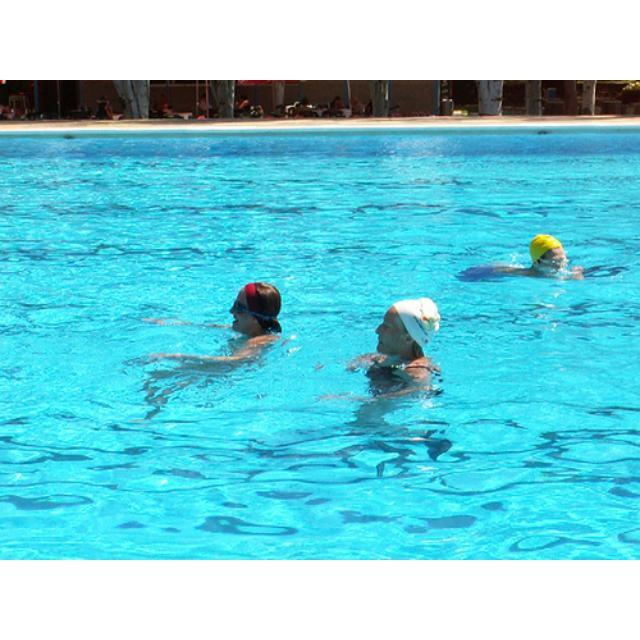human: (363, 298, 441, 404), (227, 278, 285, 358), (524, 231, 572, 282)
